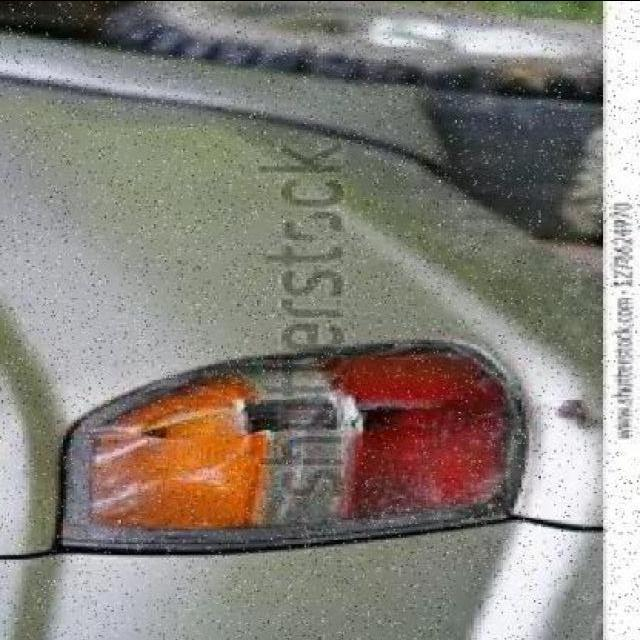Taillight-Damage: (37, 324, 588, 555)
